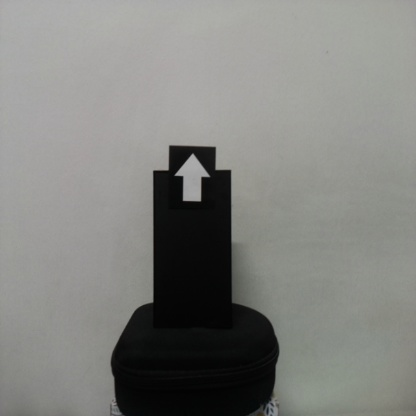id_1: (169, 146, 217, 215)
